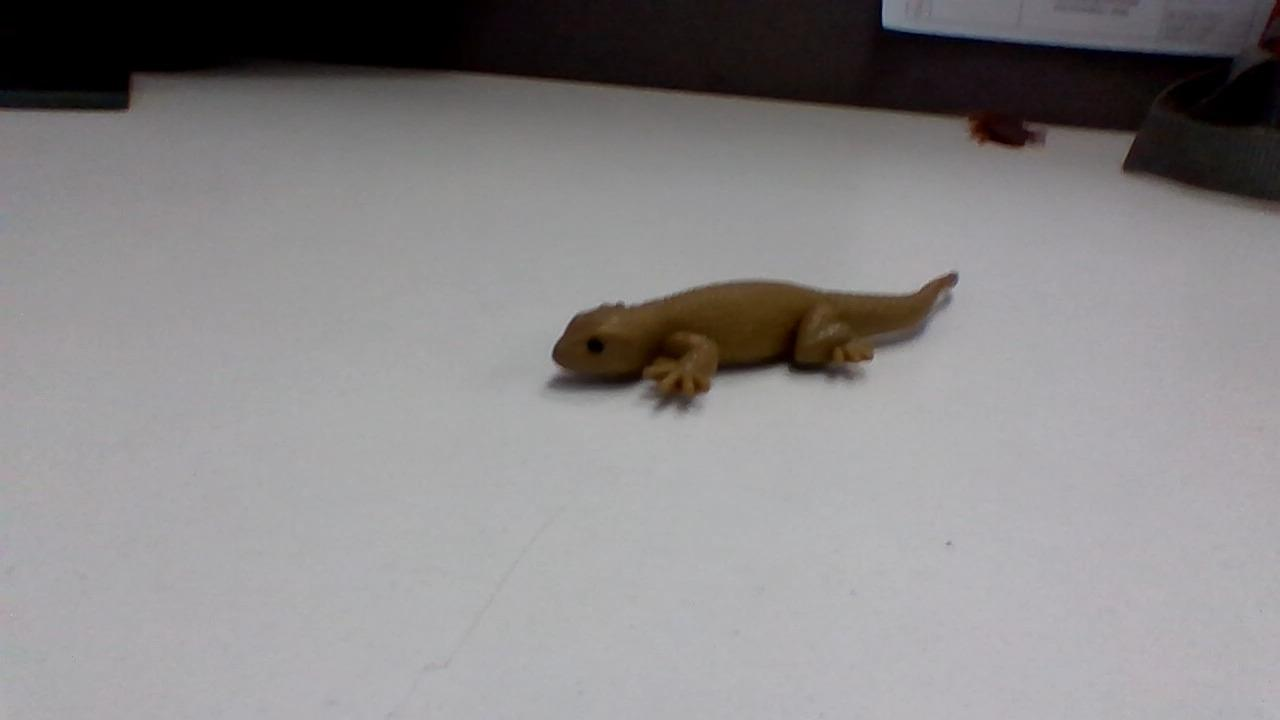lizard: (541, 271, 966, 403)
